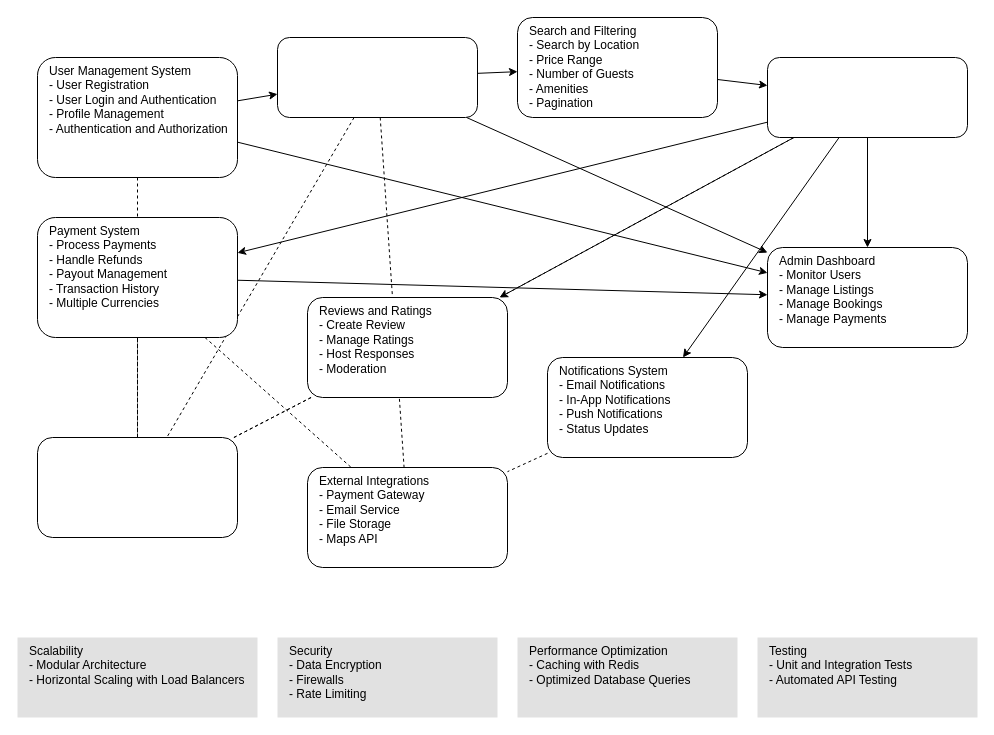
Image size: 994x735. Some labels were removed from this diagram. The box of each missing label's shape, as (x1, y1, x2, y2) in pixels:
Booking Management - Booking Creation - Booking Cancellation - Booking Status: (766, 56, 968, 138)
Database Schema - Users - Properties - Bookings - Reviews - Payments: (36, 436, 238, 538)
Property Management - Add Listings - Edit/Delete Listings: (276, 36, 478, 118)
